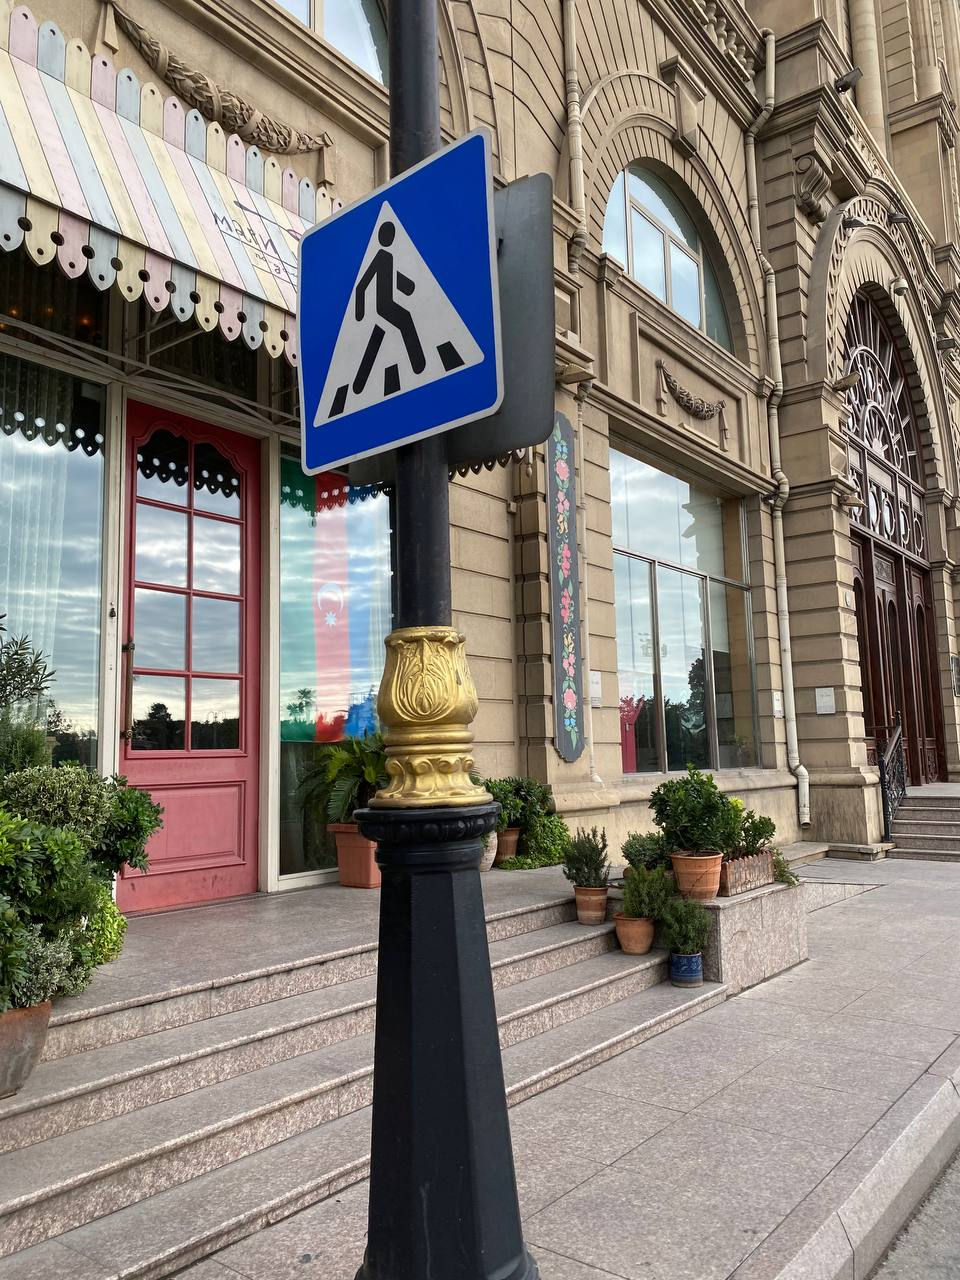Pedestrian Crossing: (301, 125, 497, 477)
